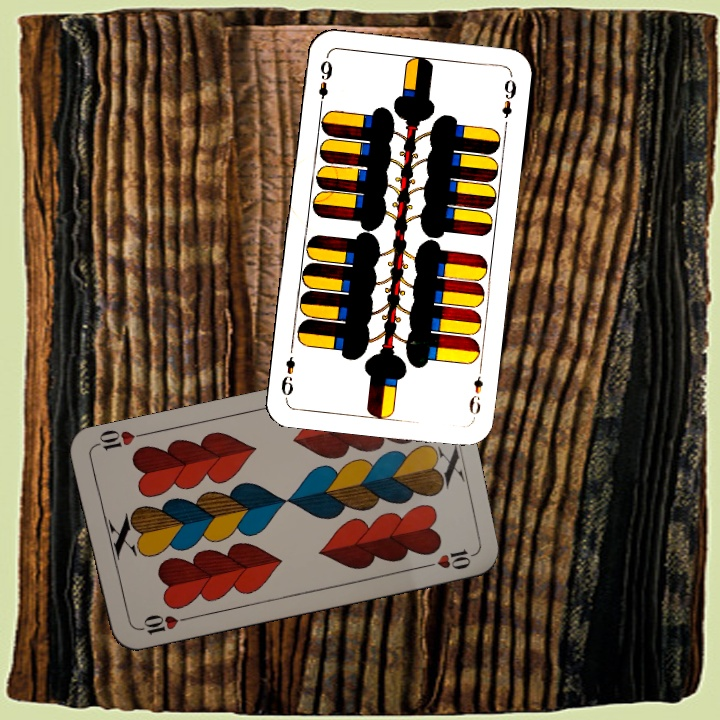E9: (465, 362, 485, 421), (314, 56, 335, 112)
H10: (133, 610, 191, 638)
